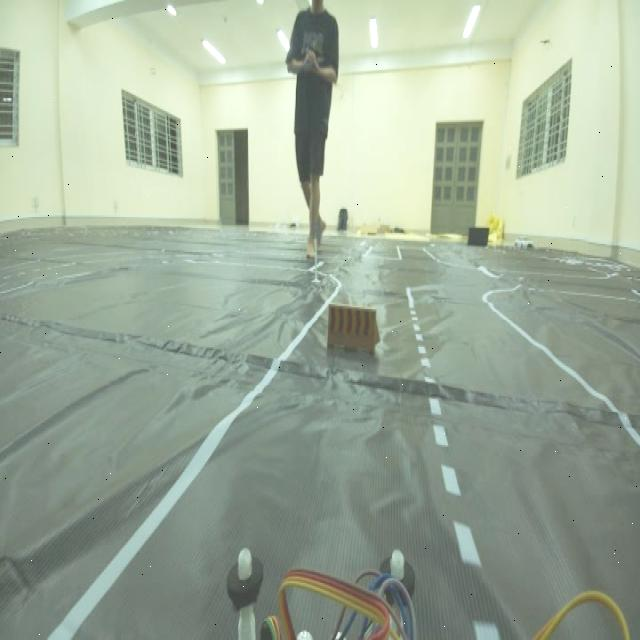roadblock: (323, 292, 391, 381)
